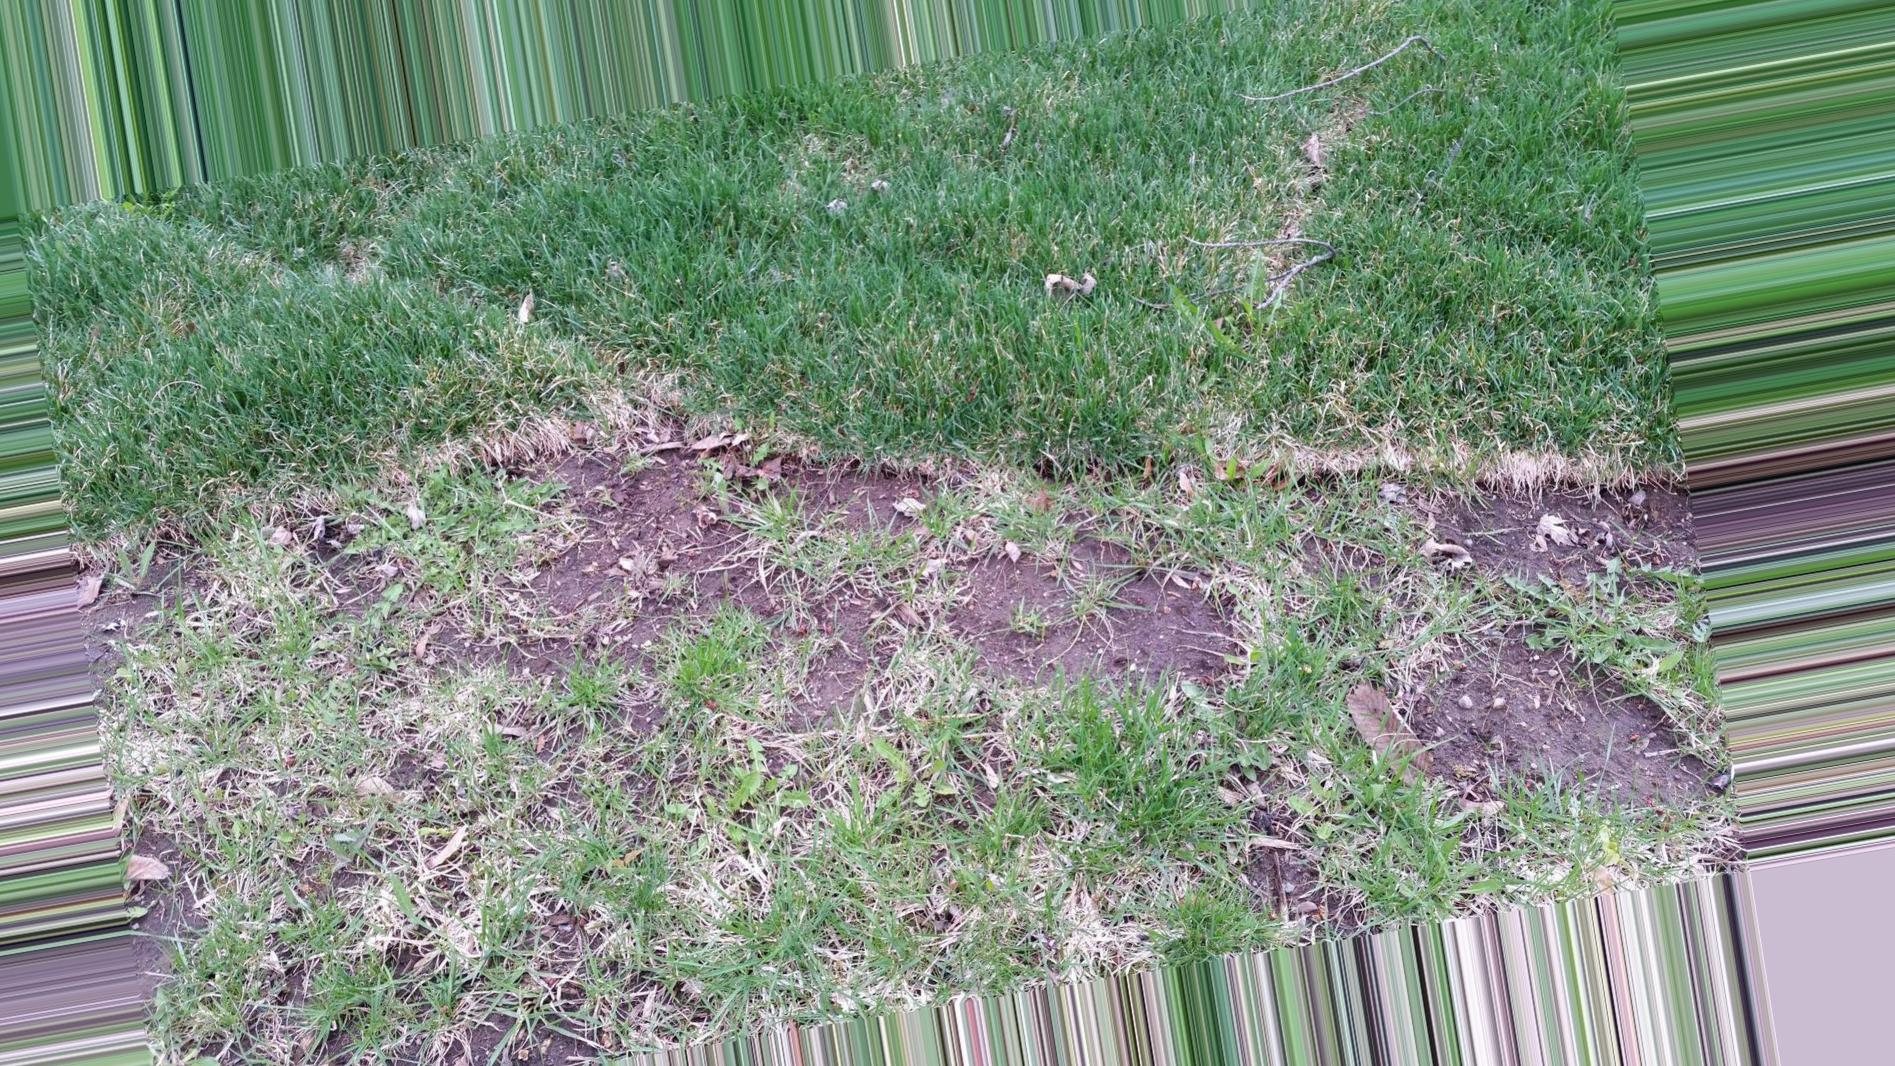patch: (511, 441, 806, 656), (903, 531, 1273, 698), (1387, 639, 1672, 823)
